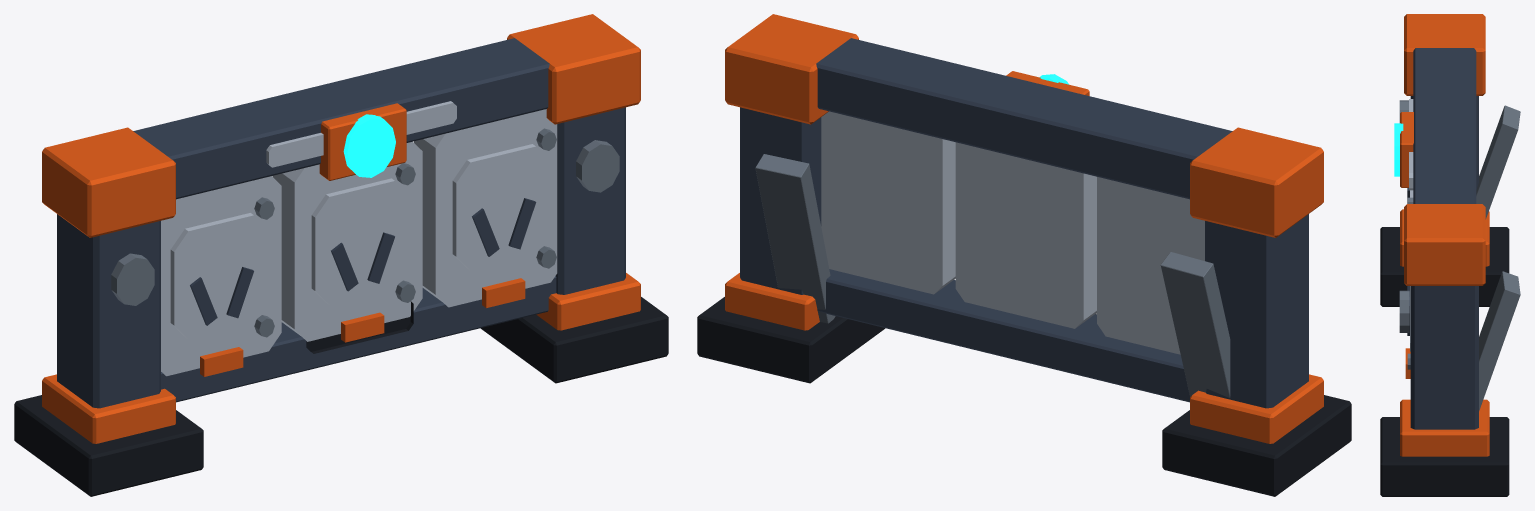
File: barricade__intact.glb
3 views of the same model, side by side, from view 1: azimuth 30°, elevation 25°; view 2: azimuth 150°, elevation 25°; view 3: azimuth 270°, elevation 25° (orthographic). The views are drawn at different scales.
Visible parts, largest first — view 1: ROLE_primary, ROLE_secondary, ROLE_accent, ROLE_rubber, ROLE_bareMetal, ROLE_interaction; view 2: ROLE_primary, ROLE_secondary, ROLE_accent, ROLE_rubber, ROLE_bareMetal; view 3: ROLE_primary, ROLE_accent, ROLE_rubber, ROLE_bareMetal, ROLE_interaction, ROLE_secondary.
Boxes of the visible parts, left/top/right/bottom form: ROLE_primary: left=57, top=38, right=625, bottom=408; ROLE_secondary: left=161, top=101, right=557, bottom=376; ROLE_accent: left=42, top=14, right=640, bottom=443; ROLE_rubber: left=14, top=297, right=668, bottom=496; ROLE_bareMetal: left=111, top=128, right=619, bottom=337; ROLE_interaction: left=343, top=114, right=395, bottom=177; ROLE_primary: left=740, top=38, right=1308, bottom=408; ROLE_secondary: left=821, top=111, right=1204, bottom=354; ROLE_accent: left=725, top=14, right=1323, bottom=443; ROLE_rubber: left=697, top=297, right=1351, bottom=496; ROLE_bareMetal: left=755, top=154, right=1230, bottom=397; ROLE_primary: left=1407, top=48, right=1478, bottom=429; ROLE_accent: left=1400, top=14, right=1489, bottom=456; ROLE_rubber: left=1380, top=227, right=1509, bottom=496; ROLE_bareMetal: left=1399, top=100, right=1520, bottom=410; ROLE_interaction: left=1394, top=123, right=1403, bottom=176; ROLE_secondary: left=1409, top=99, right=1413, bottom=351.
Size of the model in its own units: 8 by 4 by 2.
